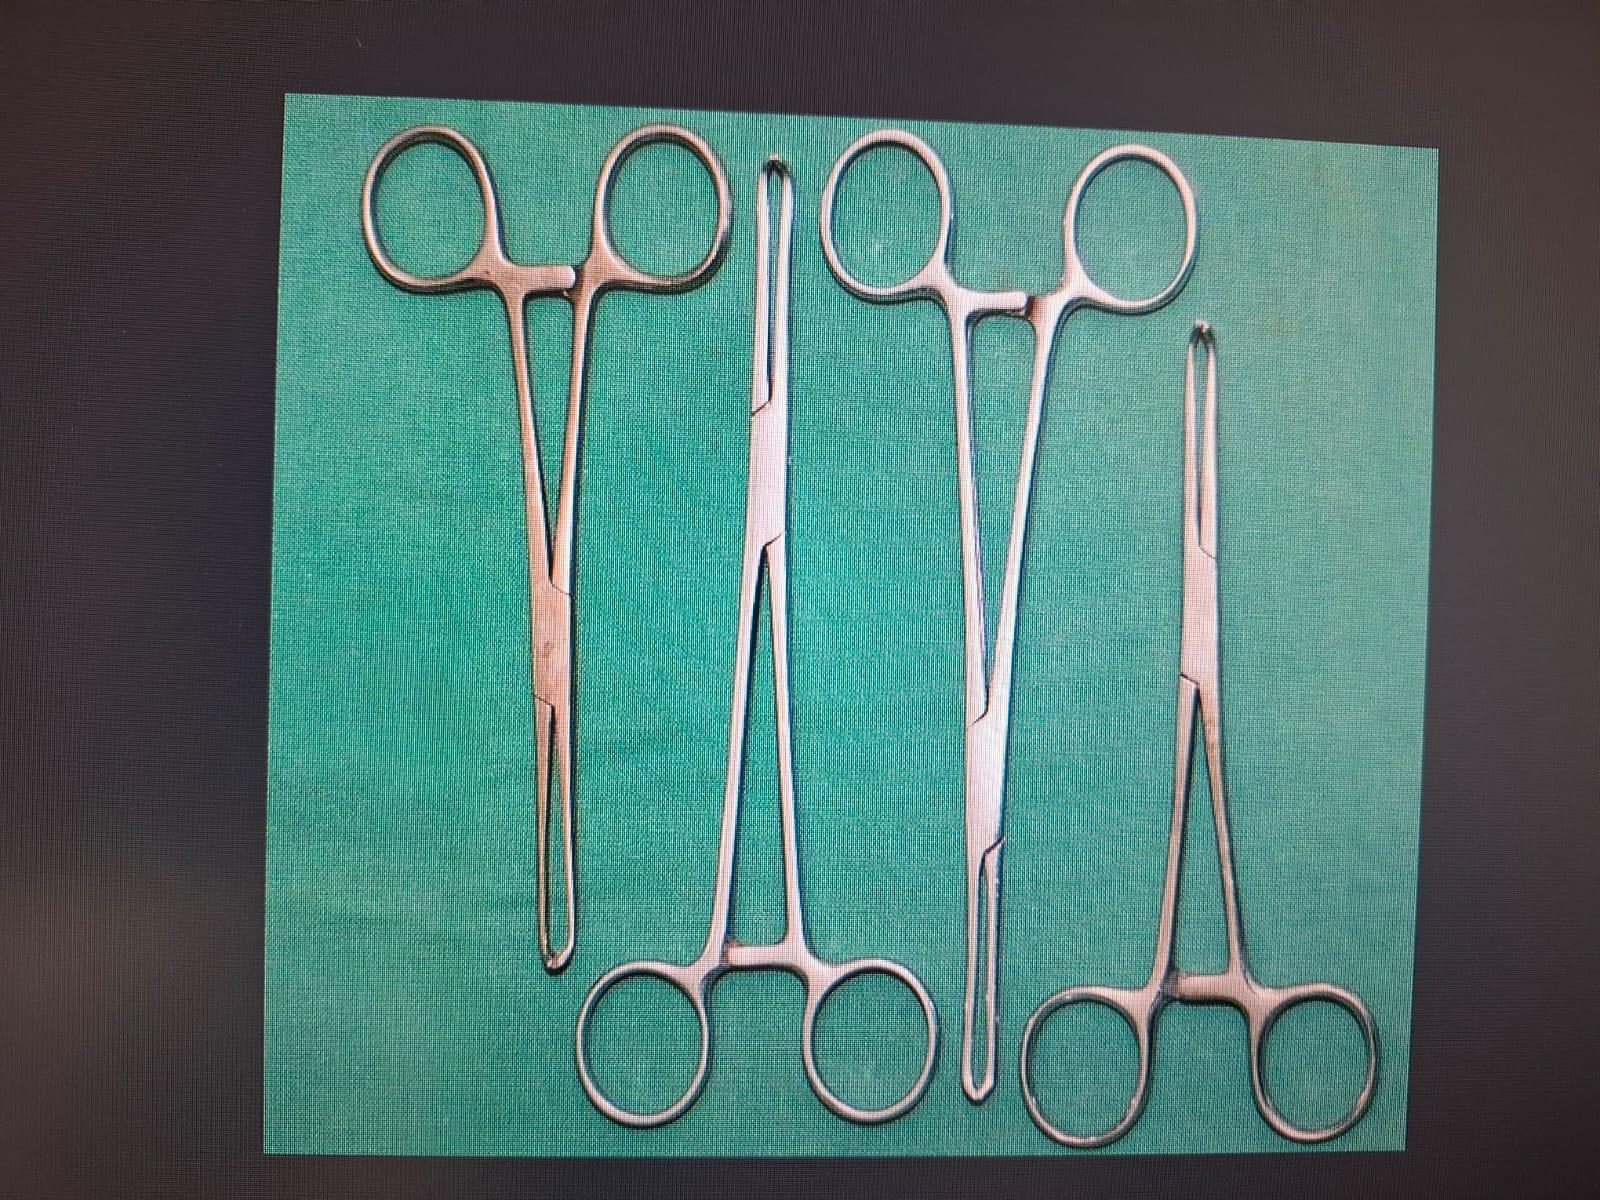Allis Forceps: (572, 136, 954, 1148), (816, 113, 1196, 1112), (351, 112, 732, 978)
